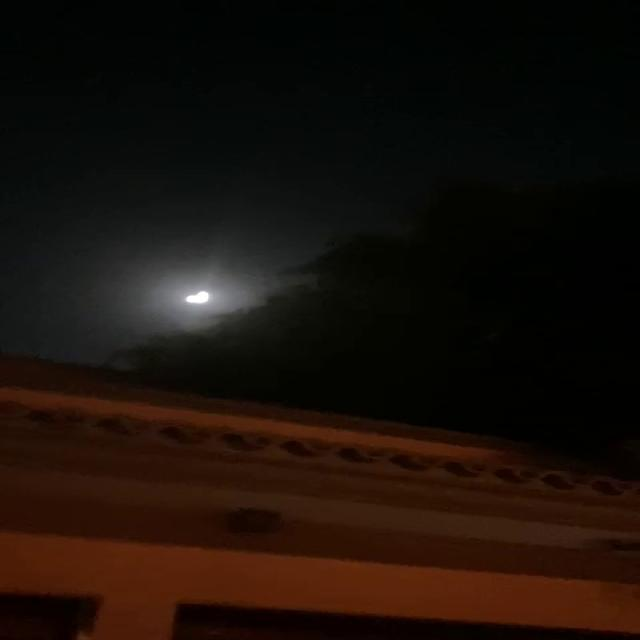moon: (144, 288, 174, 306)
